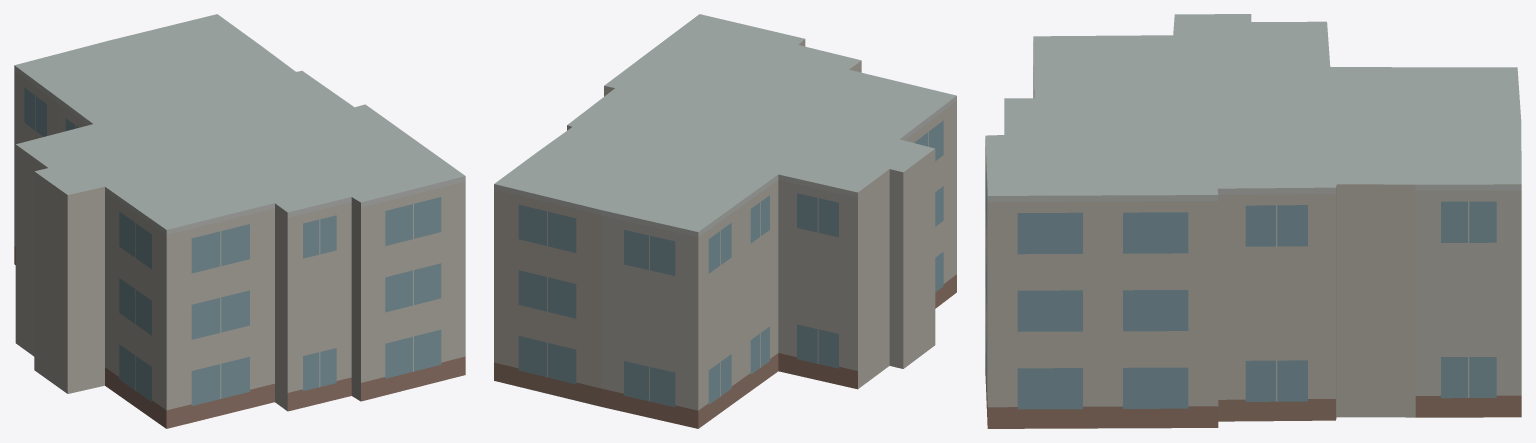
File: survey-upis-32470271.glb
The picture shows the model from 3 angles, left to right: view 1: azimuth 30°, elevation 25°; view 2: azimuth 150°, elevation 25°; view 3: azimuth 270°, elevation 25°; orthographic projection. The views are drawn at different scales.
Parts seen in each view (by area): view 1: survey-upis-32470271.tmp; view 2: survey-upis-32470271.tmp; view 3: survey-upis-32470271.tmp.
Boxes of the visible parts, box(x1,y1,x2,y2) form: survey-upis-32470271.tmp: box(14, 14, 465, 428); survey-upis-32470271.tmp: box(494, 14, 956, 428); survey-upis-32470271.tmp: box(985, 14, 1521, 428).
Bounding box in the file's own units: 15.34 × 9.15 × 19.1.
